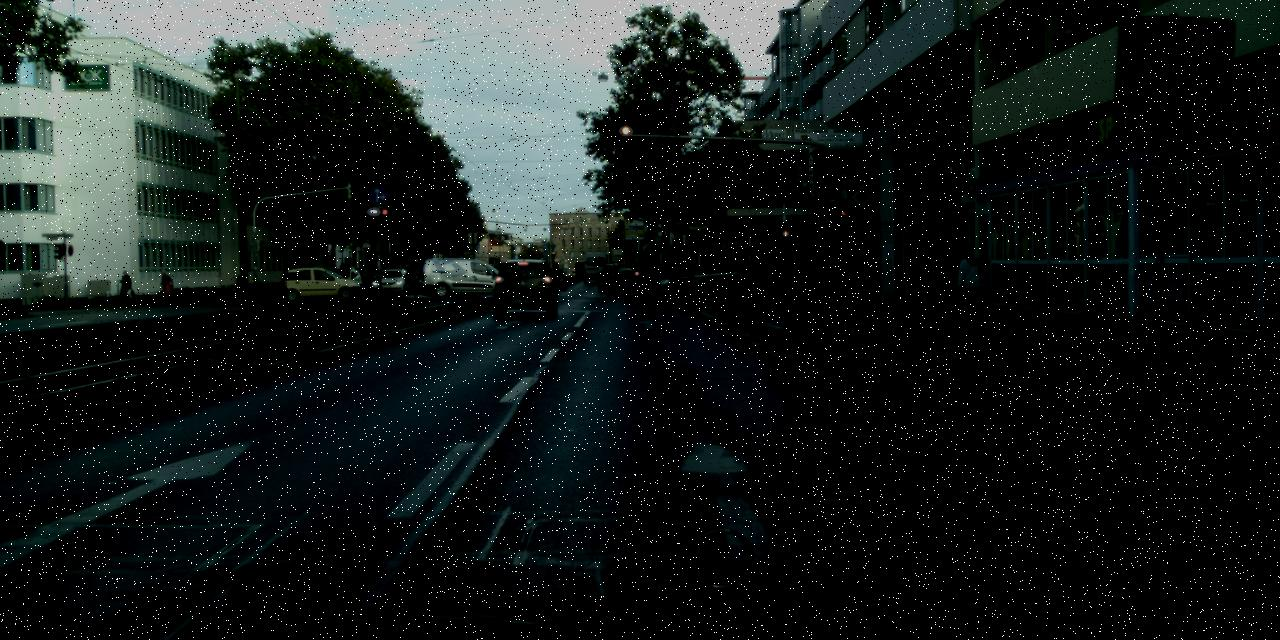ped: (954, 245, 986, 323), (844, 256, 862, 298), (862, 260, 877, 298), (118, 270, 132, 305), (160, 268, 173, 300), (551, 262, 563, 292), (236, 272, 245, 293), (339, 262, 345, 277), (574, 261, 579, 276)
